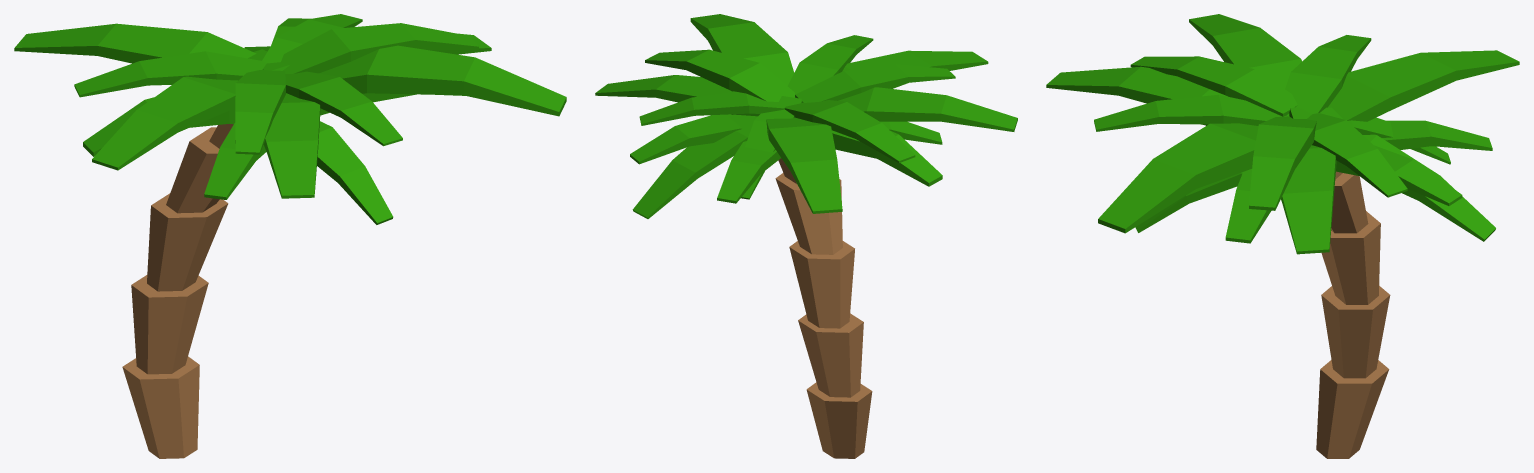
File: PalmTree1.fbx
The picture shows the model from 3 angles, left to right: view 1: azimuth 30°, elevation 25°; view 2: azimuth 150°, elevation 25°; view 3: azimuth 270°, elevation 25°; orthographic projection. The views are drawn at different scales.
Visible parts, largest first — view 1: Cube.003; view 2: Cube.003; view 3: Cube.003.
Boxes of the visible parts, <box> form: Cube.003: <box>14,14,566,458</box>; Cube.003: <box>595,14,1017,458</box>; Cube.003: <box>1046,14,1519,458</box>.
Bounding box in the file's own units: 639 × 549 × 600.
